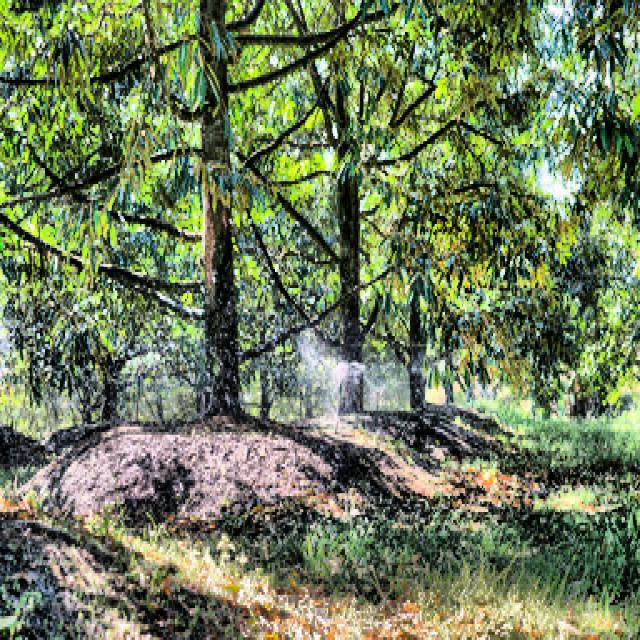arvore: (181, 0, 259, 443), (315, 0, 381, 461), (393, 174, 438, 436)
